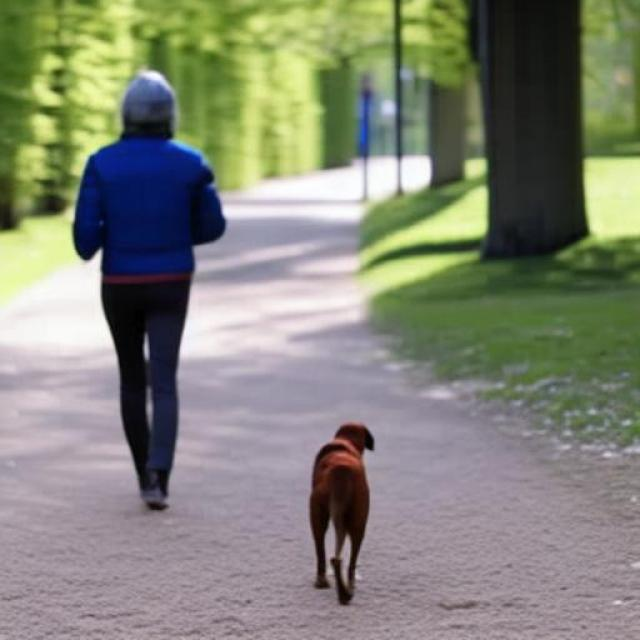Unleashed_Dog: (143, 274, 374, 607)
